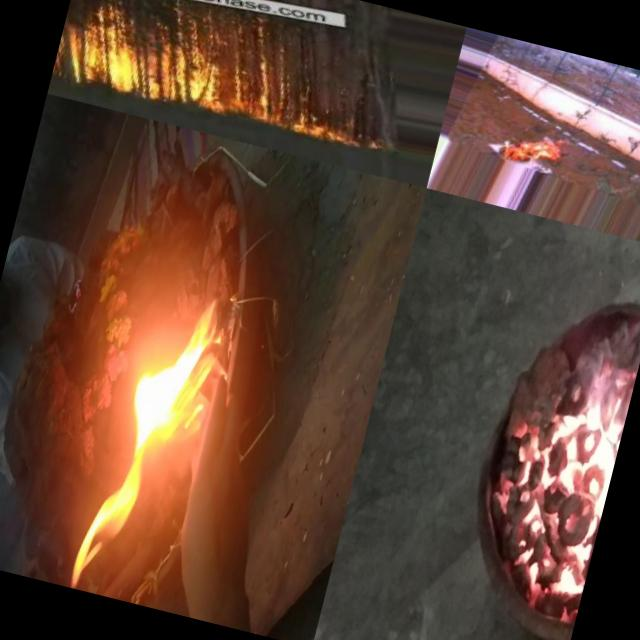fire: (476, 337, 640, 621), (53, 18, 247, 114), (0, 438, 86, 584), (244, 90, 360, 149), (488, 120, 572, 174)
smoke: (10, 98, 94, 252), (0, 242, 43, 448)
